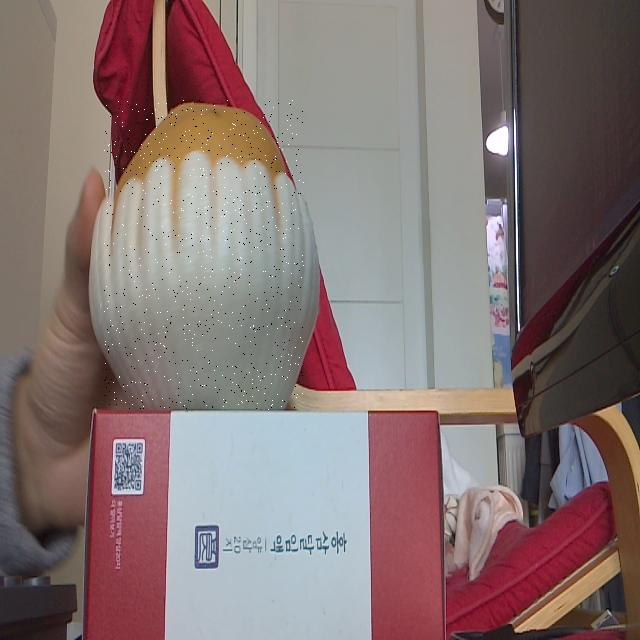pear: (104, 100, 304, 410)
